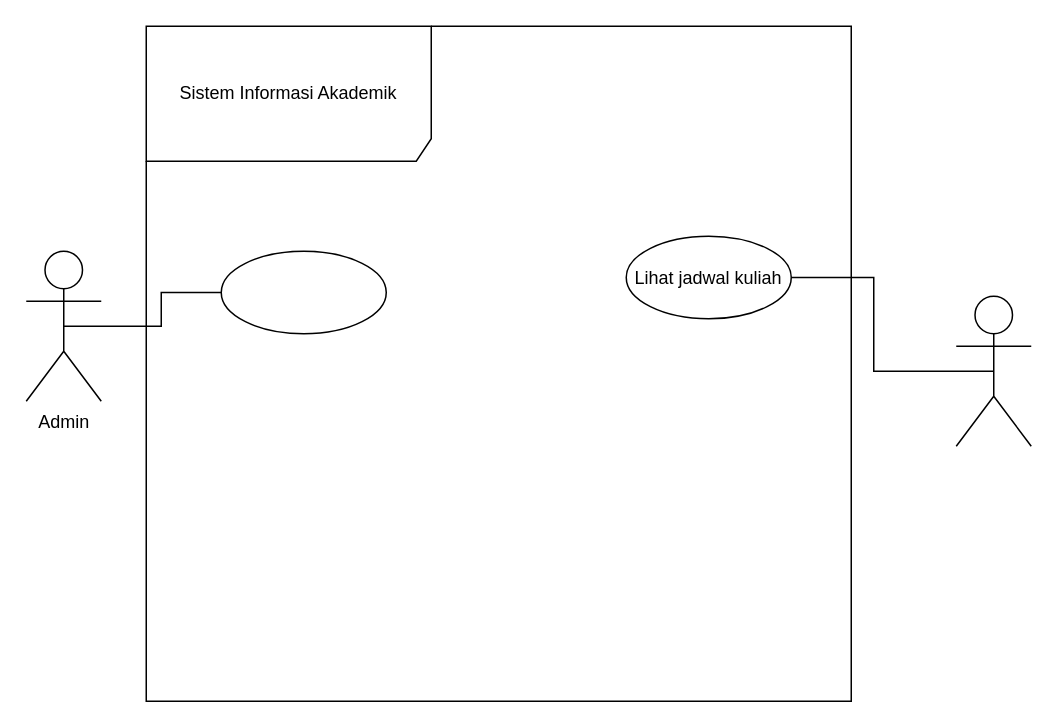
The diagram is 1059 pixels wide and 728 high, and some of its shapes have lost their labels. Each missing label, with the centre of its shape:
"Kelola jadwal kuliah" goes at pixel 303 292.
"Mahsiswa" goes at pixel 993 370.
